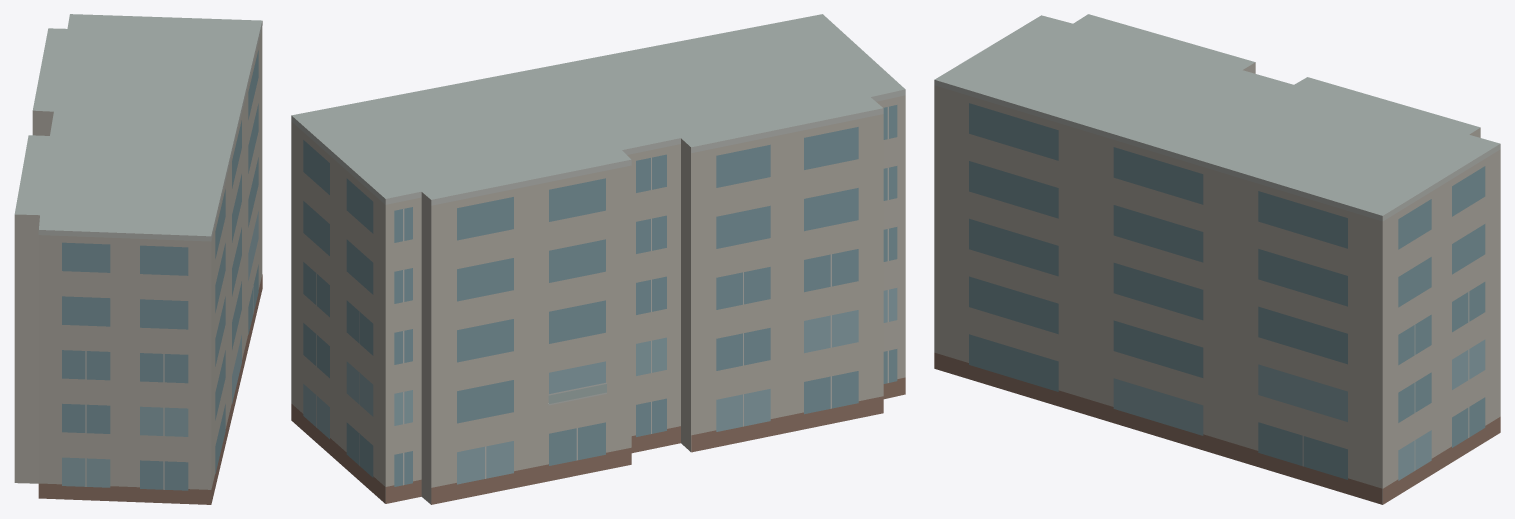
Rendered from survey-upis-32824330.glb.
The picture shows the model from 3 angles, left to right: view 1: azimuth 30°, elevation 25°; view 2: azimuth 150°, elevation 25°; view 3: azimuth 270°, elevation 25°; orthographic projection. The views are drawn at different scales.
Visible parts, largest first — view 1: survey-upis-32824330.tmp; view 2: survey-upis-32824330.tmp; view 3: survey-upis-32824330.tmp.
Boxes of the visible parts, box(x1,y1,x2,y2) form: survey-upis-32824330.tmp: box(14, 14, 262, 504); survey-upis-32824330.tmp: box(291, 14, 905, 504); survey-upis-32824330.tmp: box(934, 14, 1500, 504).
Size of the model in its own units: 18.89 by 12.6 by 22.38.
